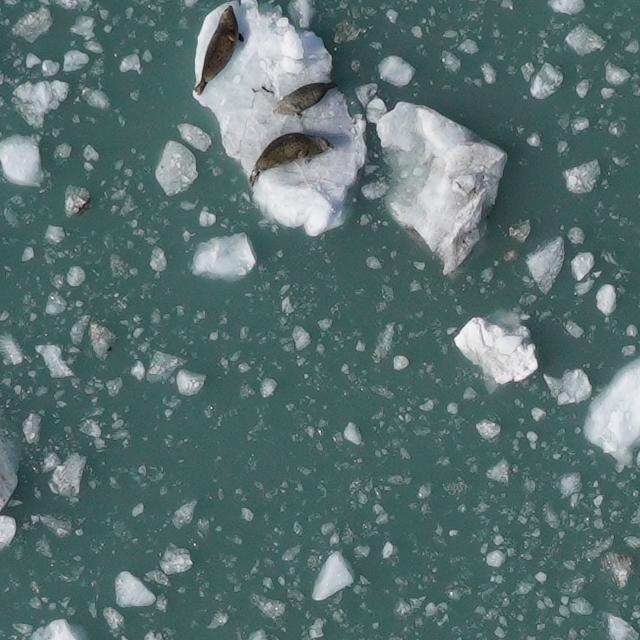seal: (191, 4, 249, 98), (246, 129, 339, 185), (267, 77, 342, 121)
